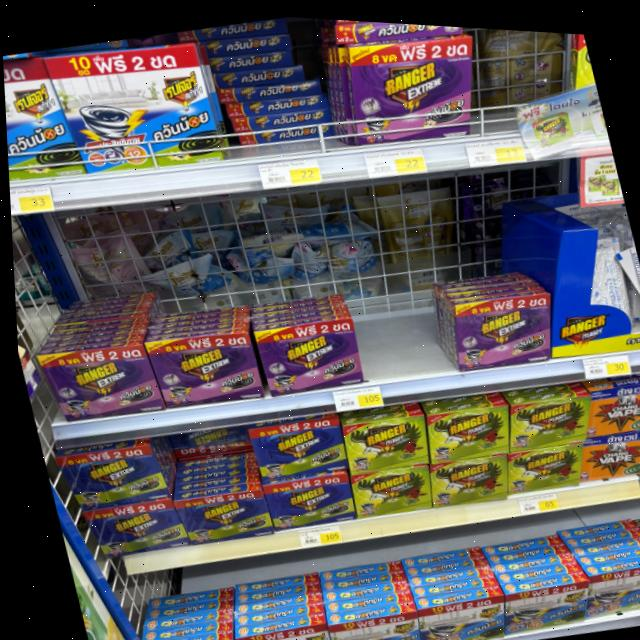empty_shelf: (197, 12, 349, 169), (338, 254, 463, 386), (467, 28, 584, 142)
